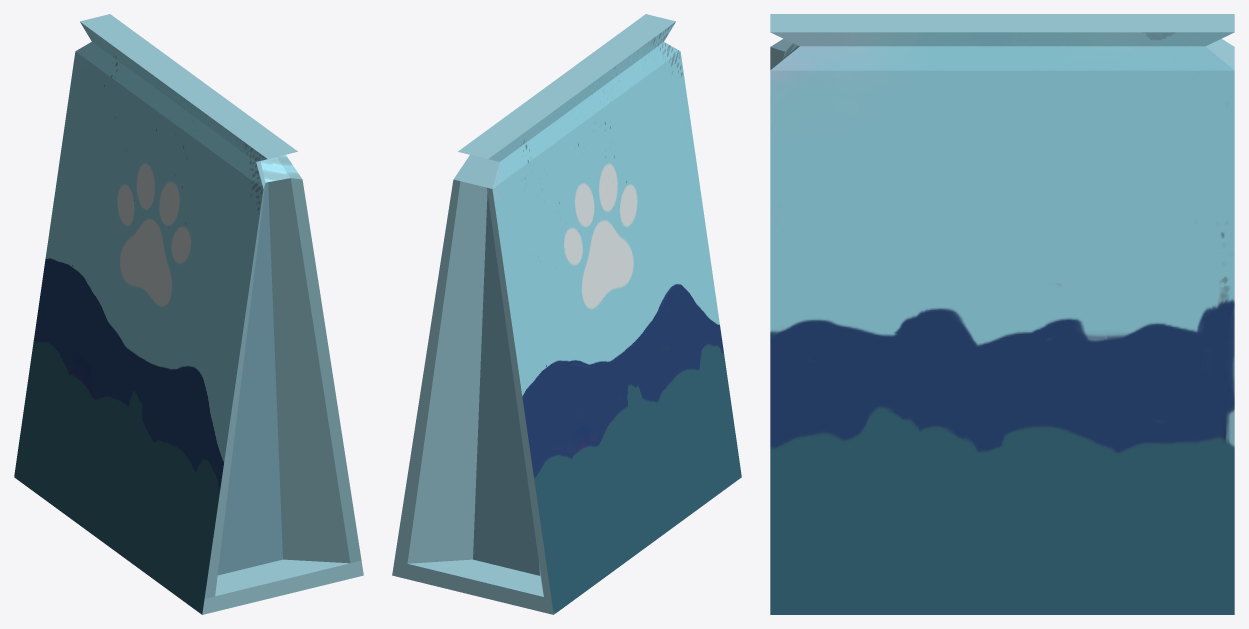
Rendered from catFood.FBX.
The picture shows the model from 3 angles, left to right: view 1: azimuth 30°, elevation 25°; view 2: azimuth 150°, elevation 25°; view 3: azimuth 270°, elevation 25°; orthographic projection. The views are drawn at different scales.
Visible parts, largest first — view 1: Cat_food001; view 2: Cat_food001; view 3: Cat_food001.
Boxes of the visible parts, x1=… form: Cat_food001: x1=14, y1=14, x2=363, y2=614; Cat_food001: x1=392, y1=14, x2=741, y2=614; Cat_food001: x1=770, y1=14, x2=1234, y2=614.
Size of the model in its own units: 9.88 by 25.68 by 19.92.
Materials: 1 (1 with a texture image).
